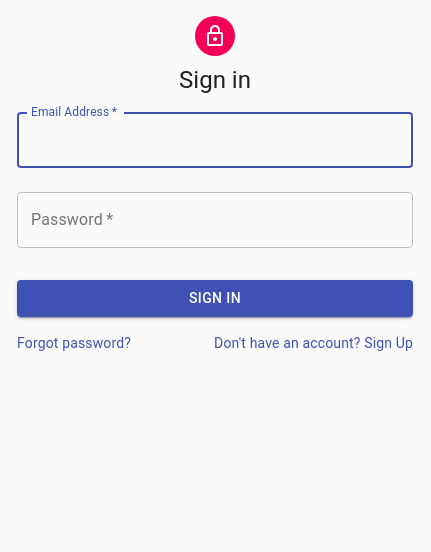
Test: <LoginForm /> › clicking the register button › opens registration form
The width and height of the screenshot is (431, 552).
Click the link with test id "registerButton" at (314, 342), box [214, 334, 413, 350]
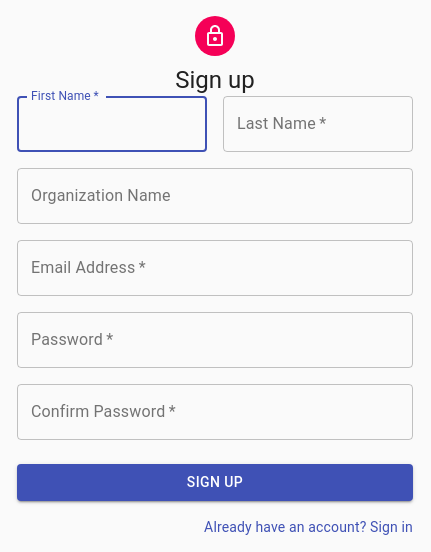
Now the field "loginId" is gone
Now the field with test id "emailID" is empty, box [17, 240, 413, 296]
